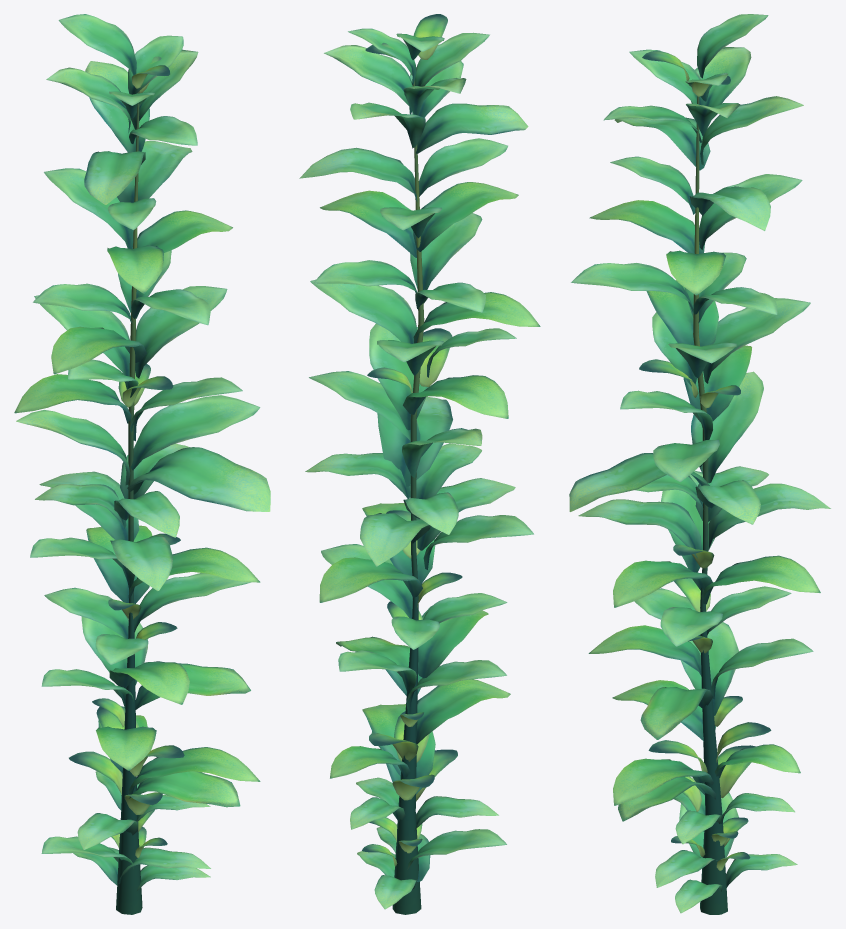
File: Mode_KelpFourniPetit.fbx
The picture shows the model from 3 angles, left to right: view 1: azimuth 30°, elevation 25°; view 2: azimuth 150°, elevation 25°; view 3: azimuth 270°, elevation 25°; orthographic projection.
Visible parts, largest first — view 1: pPlane61 (×2), pPlane15 (×2), pPlane38 (×2), pCylinder1, pPlane52 (×2), pPlane57 (×2), pPlane12 (×2), pPlane9 (×2), pPlane56 (×2), pPlane37 (×2), pPlane51 (×2), pPlane11 (×2) (+22 smaller); view 2: pPlane61 (×2), pPlane52 (×2), pPlane12 (×2), pPlane9 (×2), pCylinder1, pPlane51 (×2), pPlane38 (×2), pPlane56 (×2), pPlane21 (×2), pPlane37 (×2), pPlane15 (×2), pPlane11 (×2) (+25 smaller); view 3: pCylinder1, pPlane56 (×2), pPlane57 (×2), pPlane7 (×2), pPlane38 (×2), pPlane9 (×2), pPlane61 (×2), pPlane12 (×2), pPlane37 (×2), pPlane1 (×2), pPlane52 (×2), pPlane11 (×2) (+24 smaller).
Boxes of the visible parts, x1,y1,x2,y2 form: pPlane61 (×2): (84, 151, 270, 511); pPlane15 (×2): (129, 116, 260, 470); pPlane38 (×2): (51, 326, 189, 704); pCylinder1: (116, 91, 142, 914); pPlane52 (×2): (14, 374, 156, 770); pPlane57 (×2): (16, 61, 149, 485); pPlane12 (×2): (39, 141, 192, 540); pPlane9 (×2): (86, 210, 232, 603); pPlane56 (×2): (107, 245, 260, 598); pPlane37 (×2): (131, 289, 250, 632); pPlane51 (×2): (81, 286, 227, 688); pPlane11 (×2): (30, 168, 134, 588); pPlane61 (×2): (377, 103, 528, 486); pPlane52 (×2): (403, 375, 510, 744); pPlane12 (×2): (299, 147, 430, 566); pPlane9 (×2): (319, 190, 422, 602); pCylinder1: (392, 80, 424, 914); pPlane51 (×2): (310, 279, 417, 695); pPlane38 (×2): (413, 292, 540, 678); pPlane56 (×2): (362, 182, 518, 584); pPlane21 (×2): (369, 32, 489, 430); pPlane37 (×2): (321, 213, 482, 618); pPlane15 (×2): (309, 61, 463, 441); pPlane11 (×2): (380, 207, 533, 569); pCylinder1: (693, 96, 727, 914); pPlane56 (×2): (589, 200, 712, 607); pPlane57 (×2): (691, 96, 803, 483); pPlane7 (×2): (681, 298, 810, 715); pPlane38 (×2): (588, 280, 718, 675); pPlane9 (×2): (666, 250, 820, 604); pPlane61 (×2): (569, 117, 710, 511); pPlane12 (×2): (689, 186, 830, 549); pPlane37 (×2): (571, 263, 722, 646); pPlane1 (×2): (578, 499, 717, 887); pPlane52 (×2): (612, 345, 751, 741); pPlane11 (×2): (661, 174, 802, 572).
Bounding box in the file's own units: 360 × 1335 × 362.
